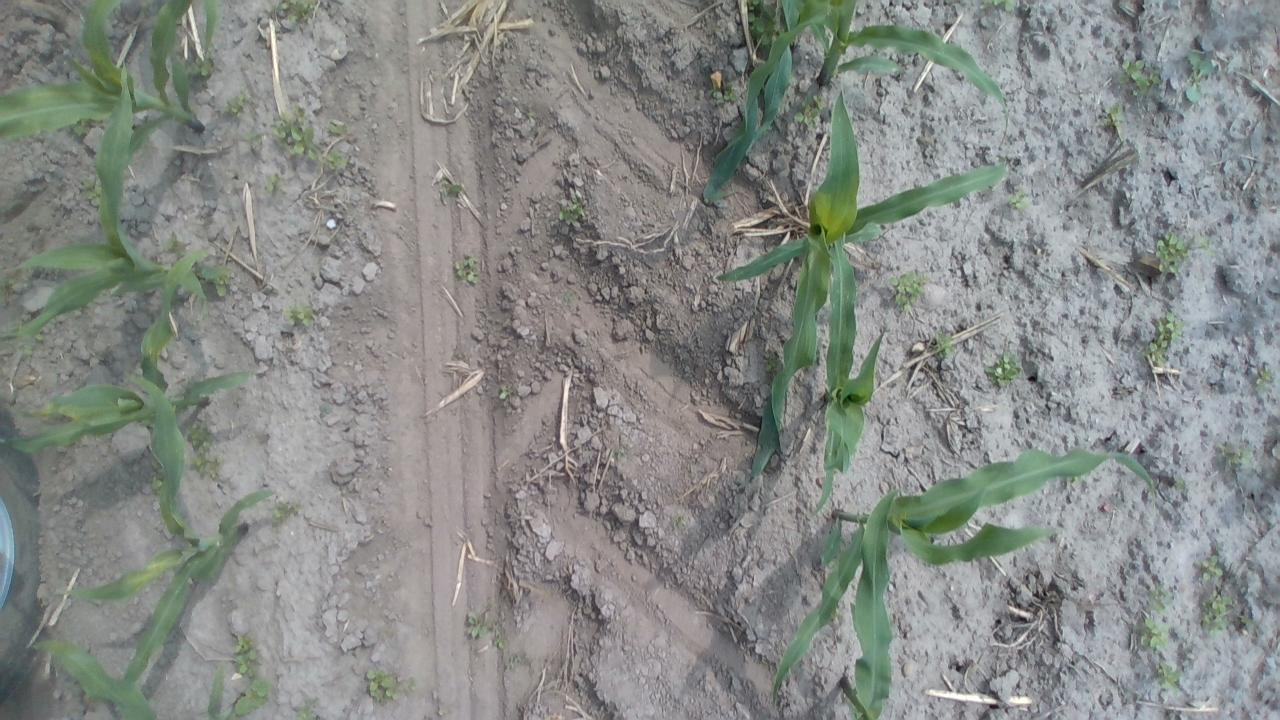Maize: (712, 88, 1013, 490), (763, 447, 1164, 720), (54, 365, 284, 714), (701, 0, 1015, 206), (0, 52, 218, 343), (9, 234, 282, 460), (0, 0, 220, 174), (812, 220, 894, 525), (26, 634, 278, 720)
Weeds: (271, 101, 325, 163), (1139, 310, 1188, 368), (742, 0, 794, 52), (184, 420, 225, 483), (1150, 231, 1196, 284), (882, 264, 932, 311), (227, 676, 273, 720), (1195, 586, 1233, 638), (364, 668, 417, 705), (1182, 50, 1219, 102), (981, 348, 1026, 390), (791, 86, 828, 132), (231, 626, 263, 679), (1119, 57, 1162, 94), (1135, 614, 1173, 653), (1150, 660, 1186, 698), (451, 250, 484, 288), (277, 0, 323, 26), (1219, 441, 1254, 474), (559, 192, 591, 228), (266, 496, 304, 523), (466, 608, 496, 642), (284, 300, 318, 328), (930, 330, 961, 360), (1199, 551, 1226, 585), (437, 176, 469, 204), (1102, 100, 1125, 138), (1250, 363, 1279, 393), (1148, 584, 1174, 616), (19, 330, 46, 360), (221, 90, 248, 120), (976, 0, 1021, 18), (709, 80, 740, 106), (80, 177, 104, 210), (187, 52, 214, 79), (211, 268, 234, 298), (321, 148, 352, 170), (502, 651, 532, 673), (672, 512, 698, 537), (1004, 190, 1035, 210), (292, 698, 320, 720), (604, 437, 628, 462), (1167, 476, 1189, 494), (238, 126, 258, 145), (494, 383, 514, 402), (262, 173, 280, 194), (556, 289, 578, 306), (149, 475, 165, 497), (1238, 612, 1257, 630), (764, 355, 781, 374), (325, 124, 351, 136), (492, 637, 508, 653), (522, 108, 536, 124)
